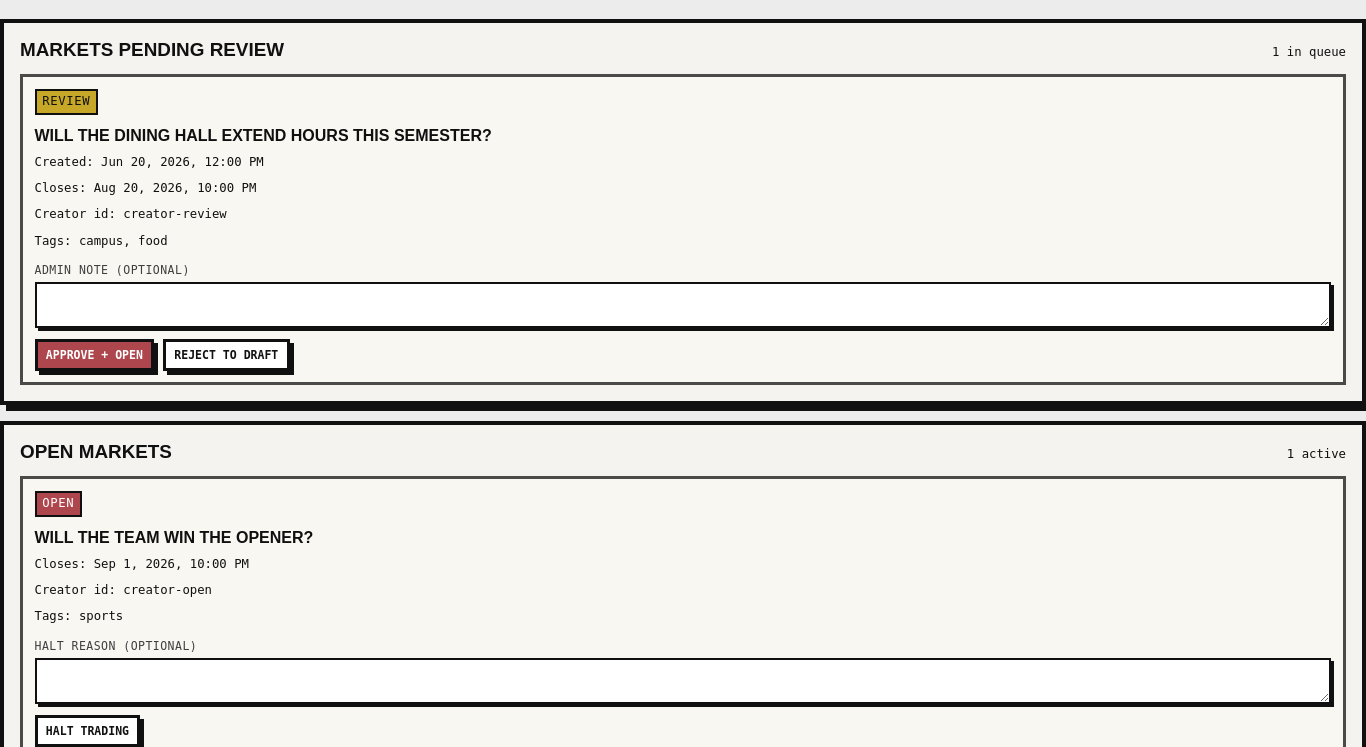
AdminReviewQueue › approves a review market with a trimmed admin note and refreshes
In the text box labelled "Admin note (optional)": (683, 305) left=34, top=282, right=1332, bottom=328, type "  objective market  "
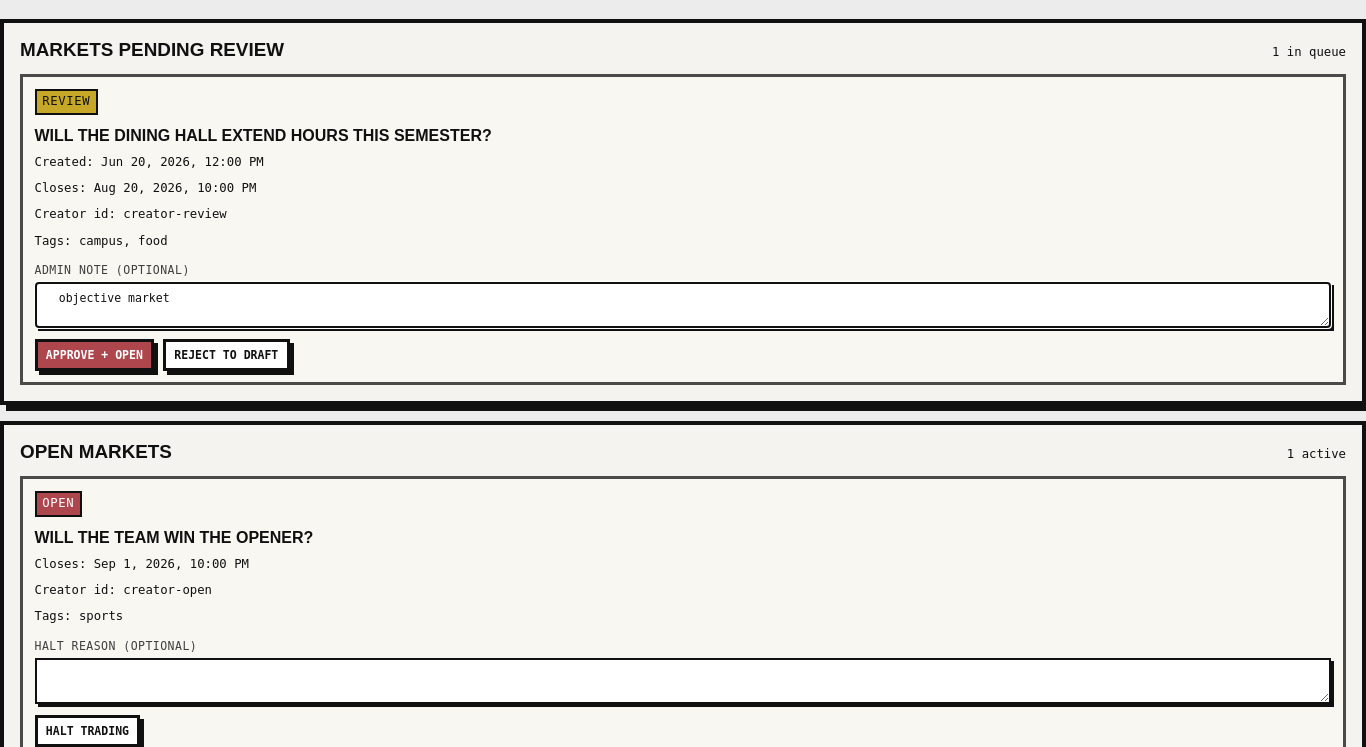
Click the button "Approve + open": (94, 355) left=34, top=339, right=154, bottom=371
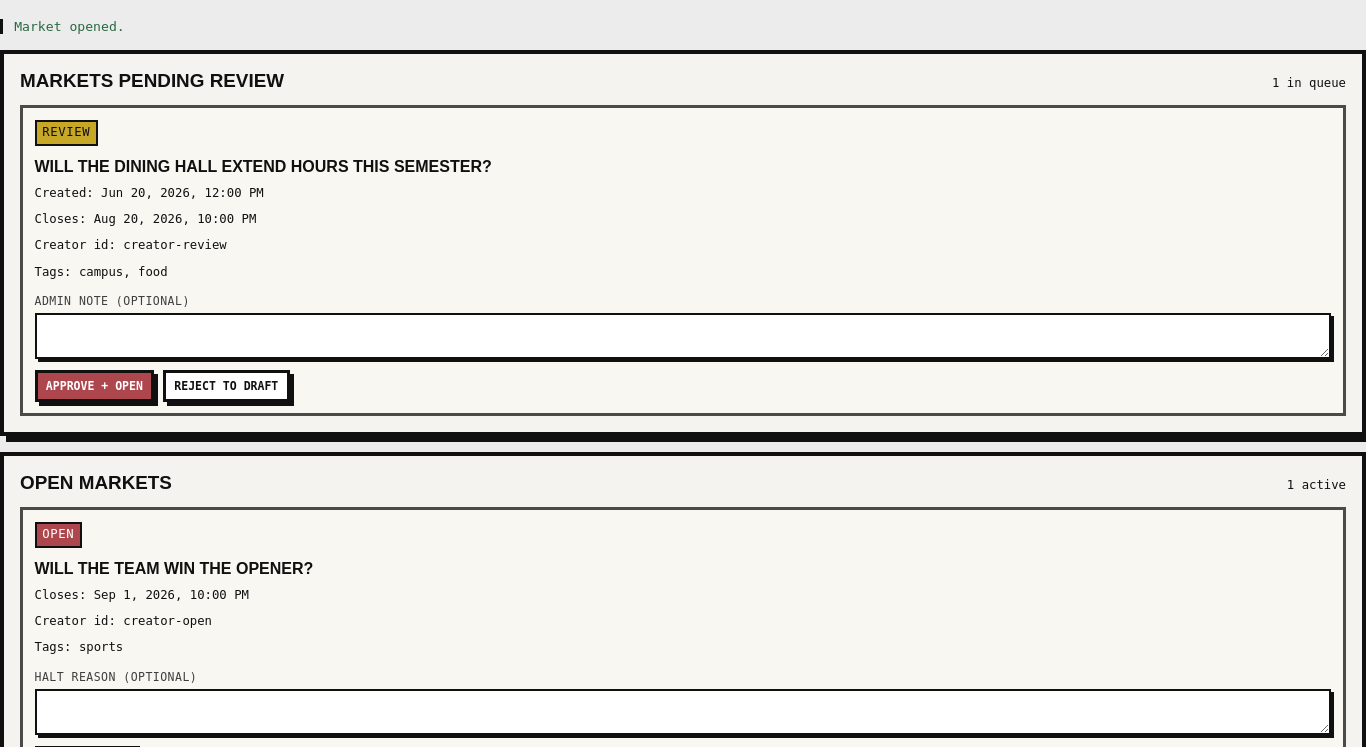
Expected: the text "Market opened." is shown, left=0, top=19, right=1365, bottom=34
Expected: the text box labelled "Admin note (optional)" is empty, left=34, top=313, right=1332, bottom=359
